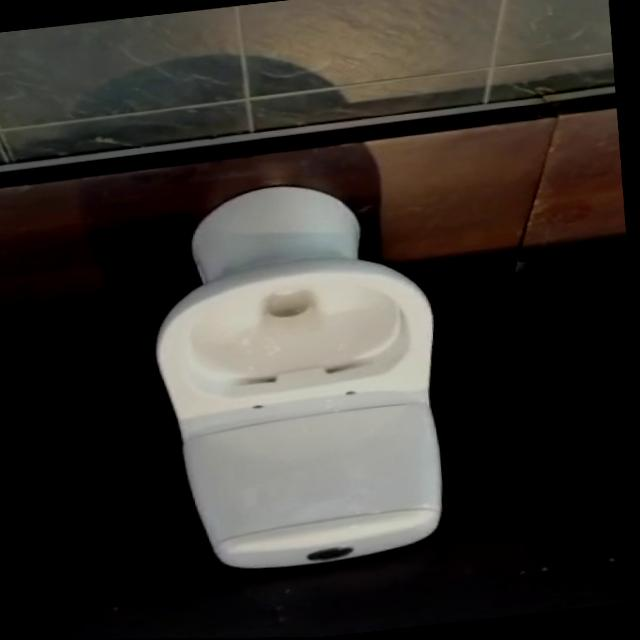toilet: (135, 170, 464, 581)
